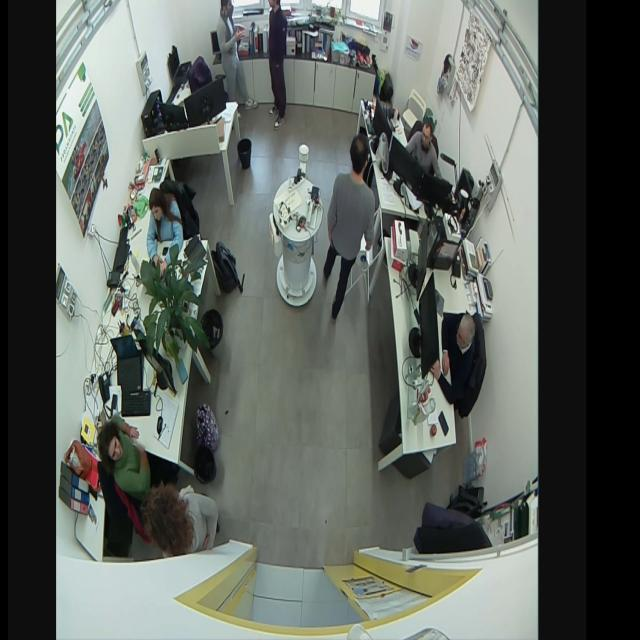Persona: (322, 130, 380, 324), (146, 482, 221, 562), (431, 309, 480, 409), (216, 0, 260, 109), (95, 410, 149, 494), (144, 182, 184, 274), (266, 0, 290, 133), (404, 118, 442, 178)
